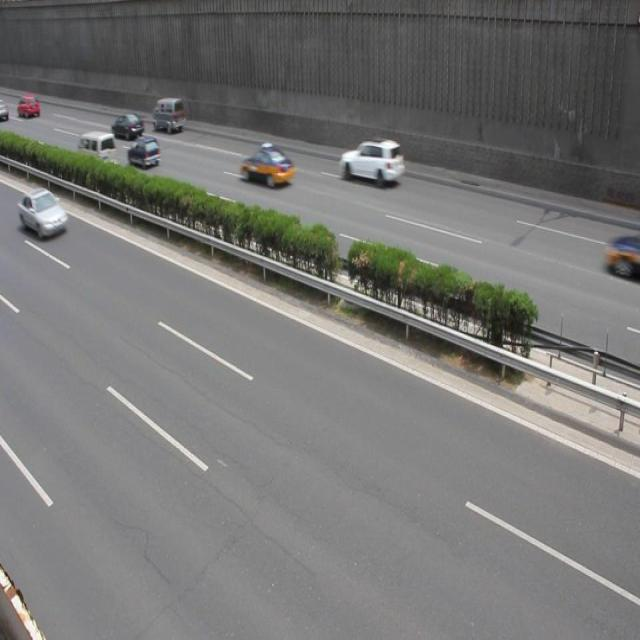car: (337, 138, 405, 186), (239, 142, 297, 188), (18, 187, 68, 240), (127, 134, 160, 169), (111, 111, 144, 140)
truck: (75, 129, 117, 168), (151, 97, 185, 133)
